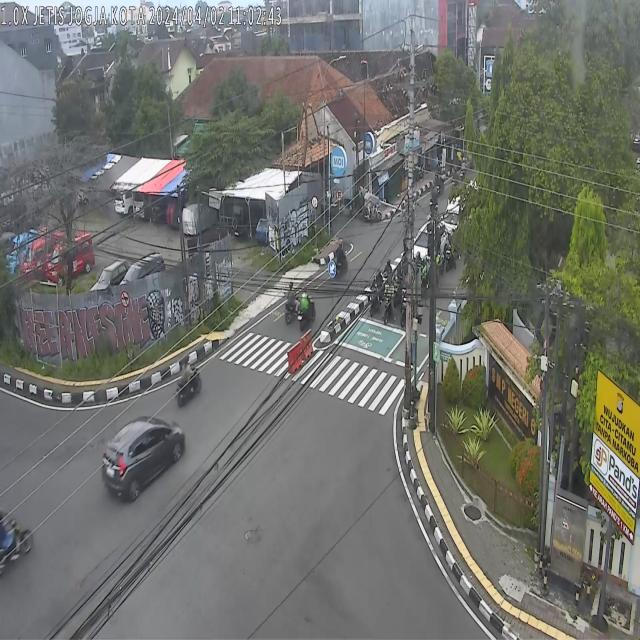car: (102, 415, 185, 504), (413, 220, 448, 275)
motorcycle: (0, 510, 34, 575), (175, 354, 202, 406), (298, 284, 316, 332), (285, 281, 300, 325), (370, 270, 383, 319), (384, 274, 396, 326), (334, 238, 347, 276), (382, 258, 392, 292), (446, 240, 456, 272)
